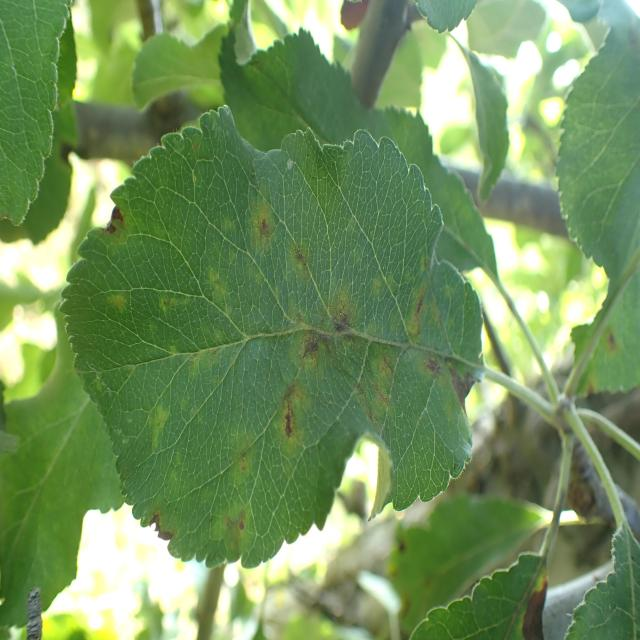scab: (79, 200, 482, 494), (139, 497, 284, 596)
